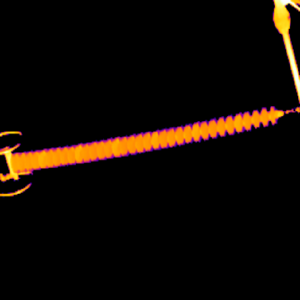insulator: (7, 106, 284, 171)
